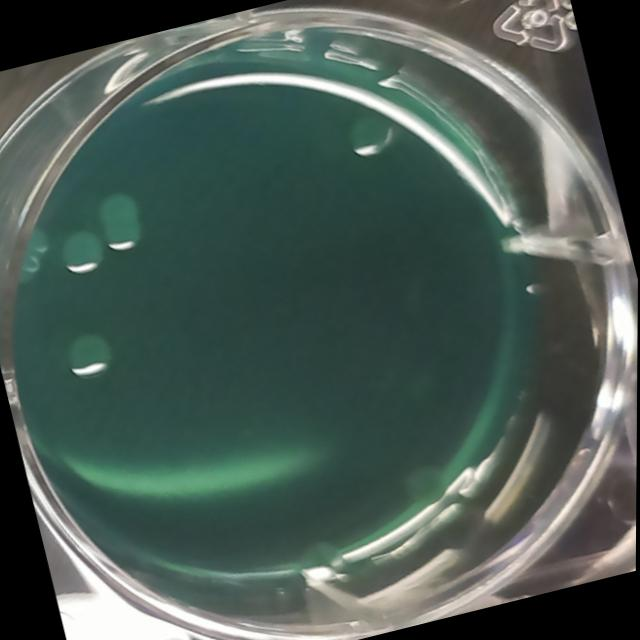vibrio: (51, 317, 122, 391), (87, 181, 152, 257), (336, 108, 399, 170), (51, 222, 110, 280)
